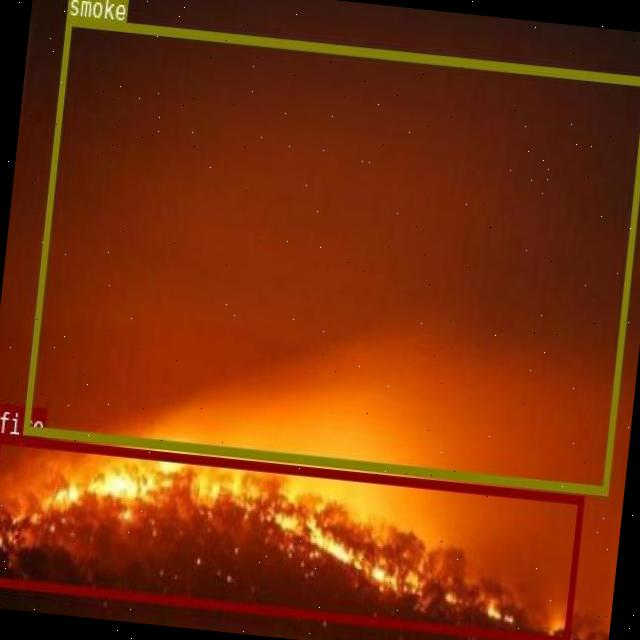fire: (0, 433, 583, 640)
smoke: (22, 16, 640, 493)
